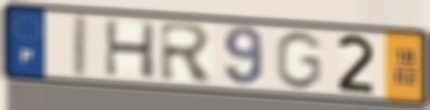2: (335, 34, 376, 96)
9: (221, 24, 265, 90)
G: (273, 29, 326, 92)
H: (102, 18, 158, 81)
I: (68, 11, 91, 81)
R: (157, 20, 217, 84)
